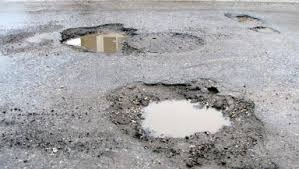pothole: (108, 85, 261, 152), (60, 24, 138, 55), (143, 30, 209, 54), (228, 10, 263, 24), (250, 25, 283, 31)
